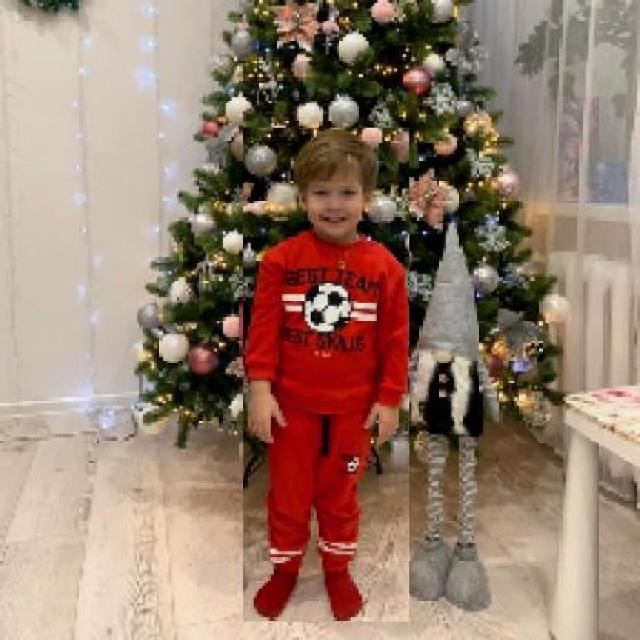child: (242, 128, 409, 623)
